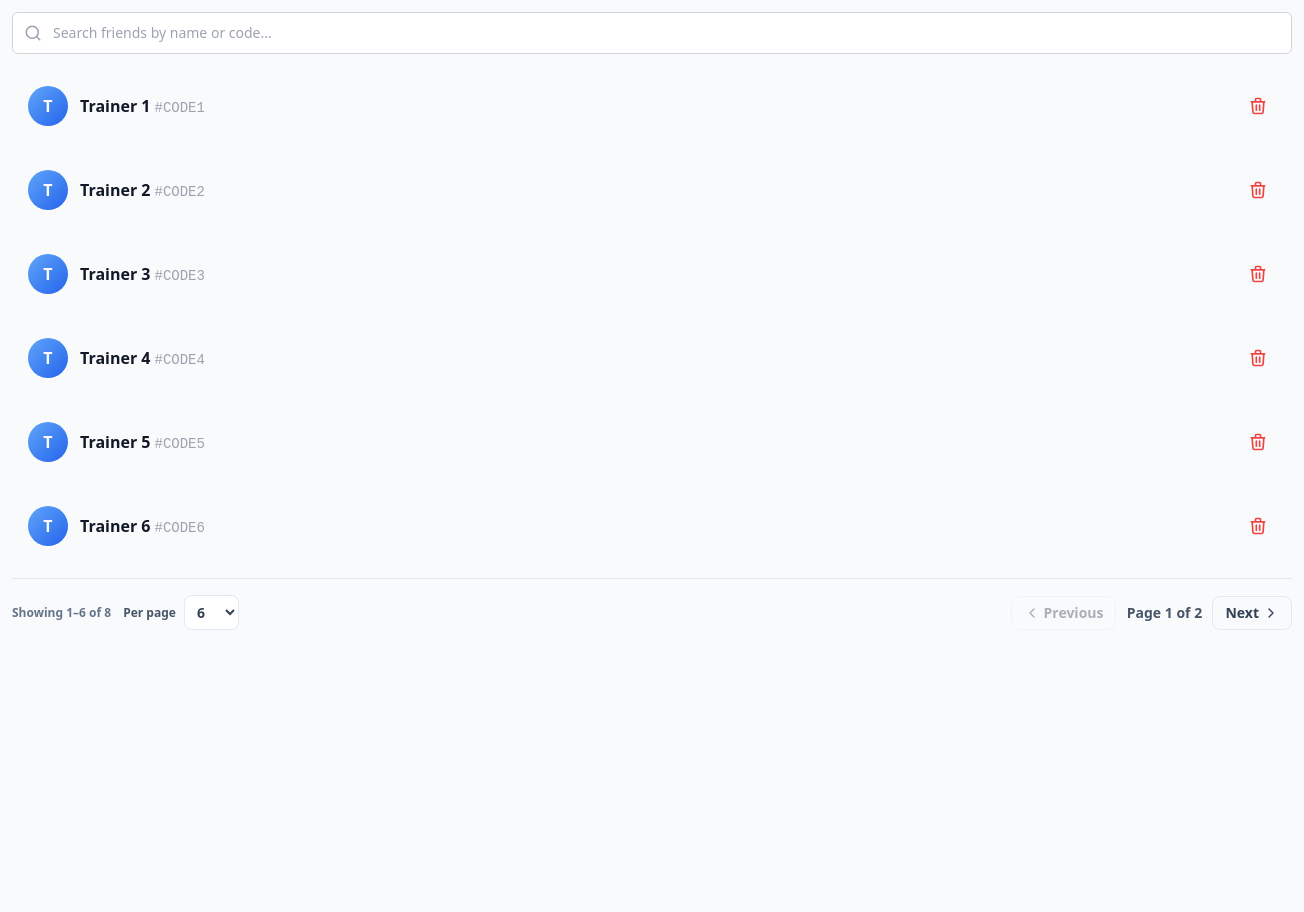
Test: FriendsList search and pagination › shows six friends per page and navigates to the rest
Expected: the text "Trainer 1" is shown, [80,95,150,117]
Expected: the text "Trainer 6" is shown, [80,515,150,537]
Click the button with aria-label "Next friends page".
click(1252, 612)  # box [1212,596,1292,630]
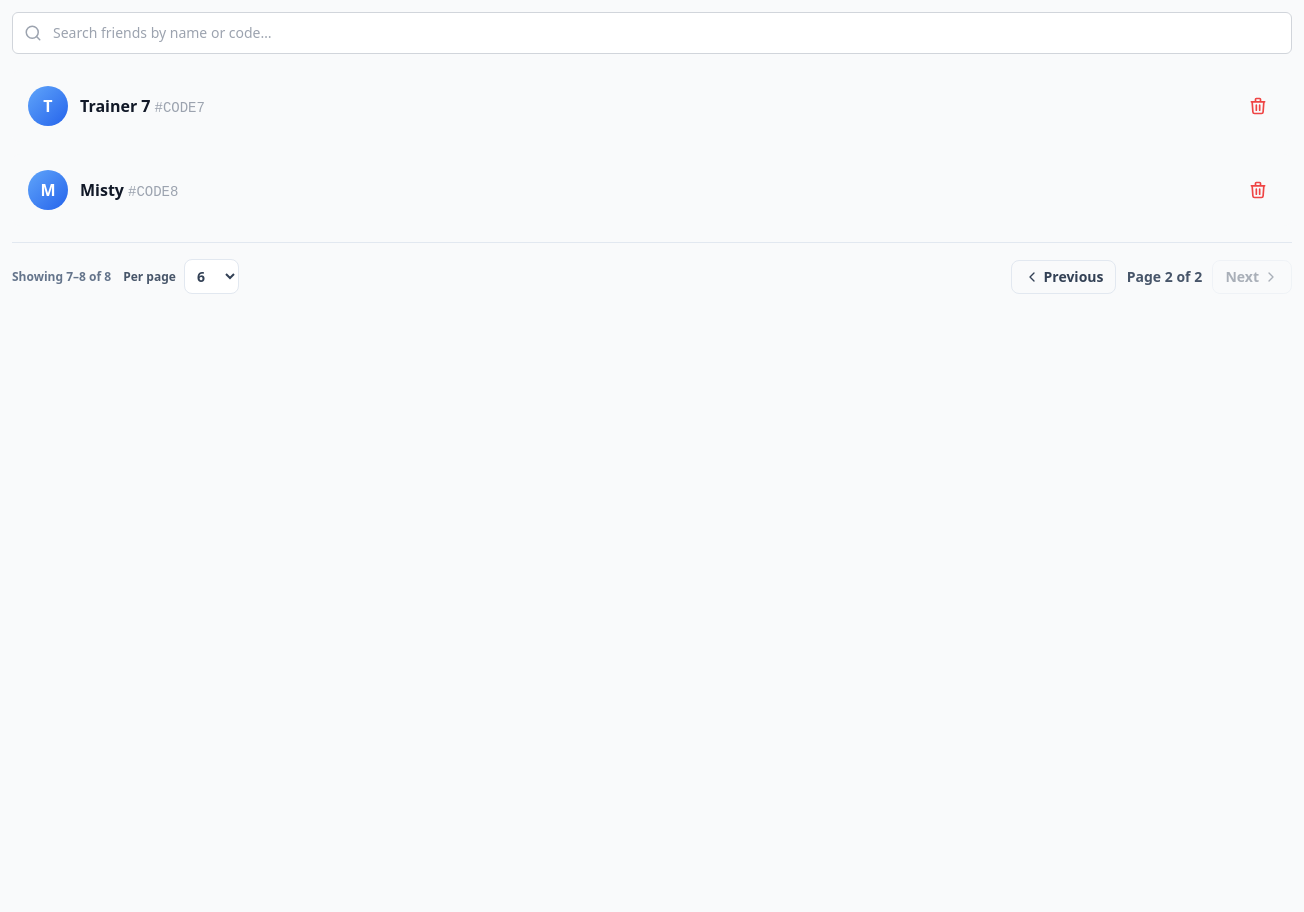
Result: the text "Trainer 7" is shown at [80,95,150,117]
Result: the text "Misty" is shown at [80,179,124,201]
Result: the text "Showing 7–8 of 8" is shown at [12,268,111,284]
Select "12" in the dropdown named "friends per page" at (211, 276), box [184,259,239,294]
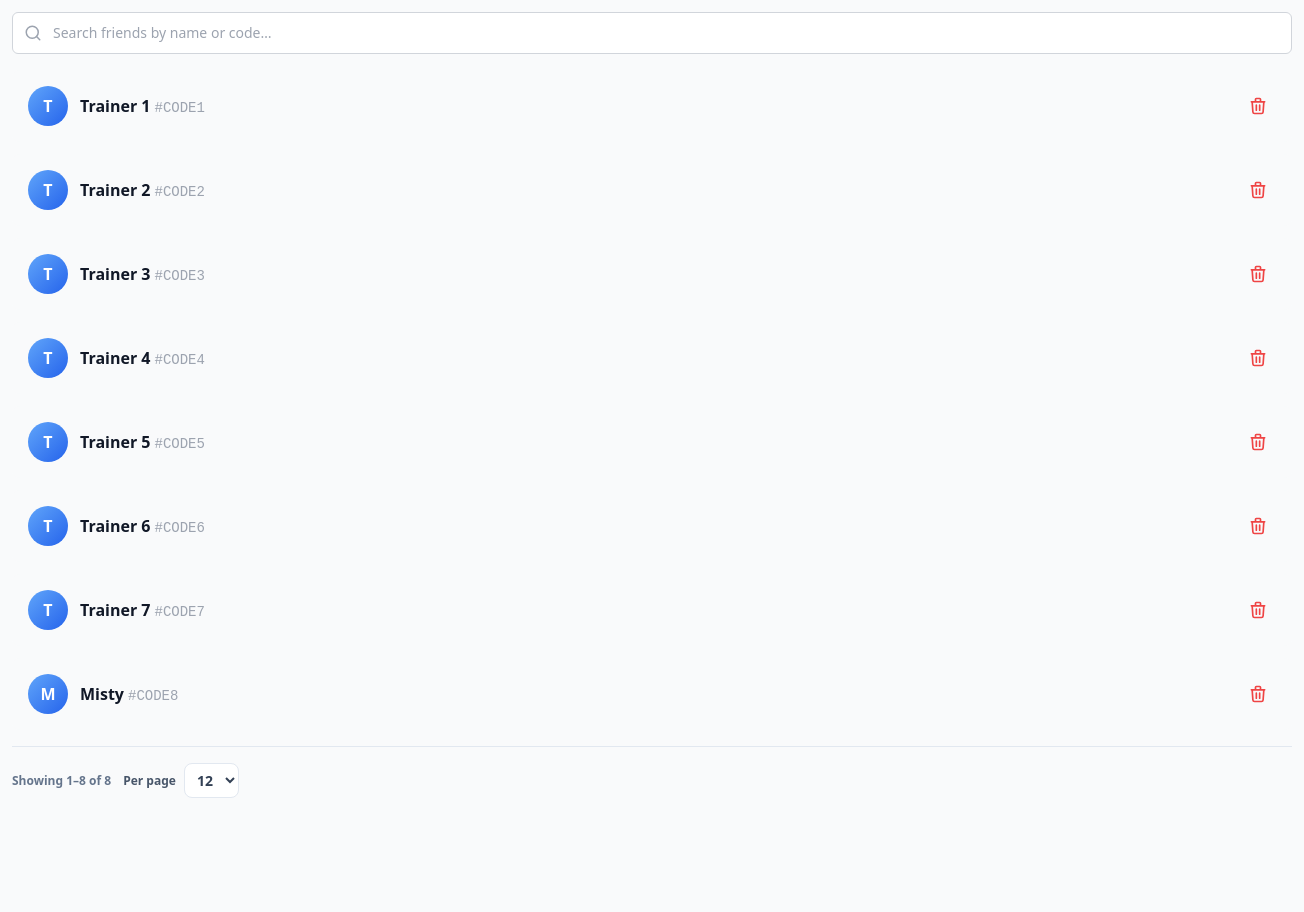
Result: the text "Misty" is shown at [80,683,124,705]
Result: the text "Trainer 1" is shown at [80,95,150,117]
Result: the text "Showing 1–8 of 8" is shown at [12,772,111,788]
